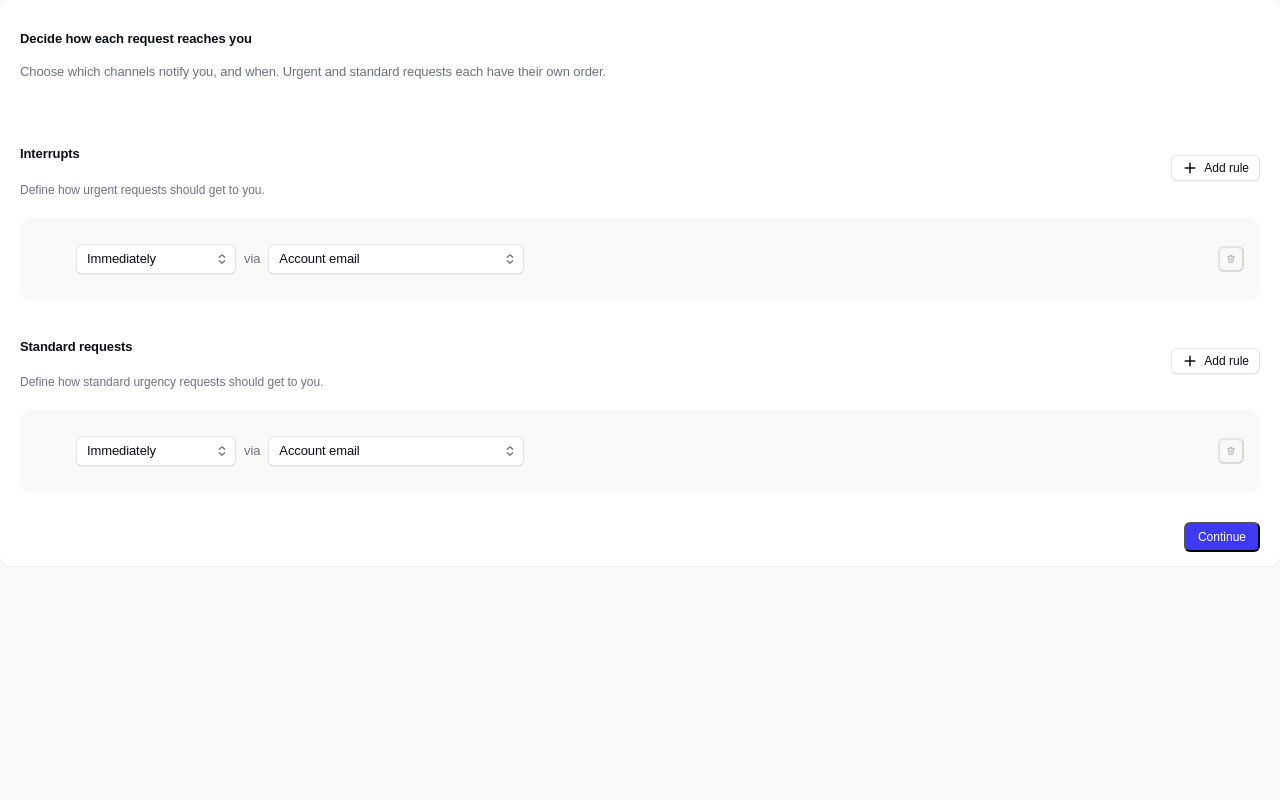
onboarding notification rules › stays on the step when the save fails
Click the 2nd button "Add rule" at (1216, 361), box top-left (1171, 348), bottom-right (1260, 374)
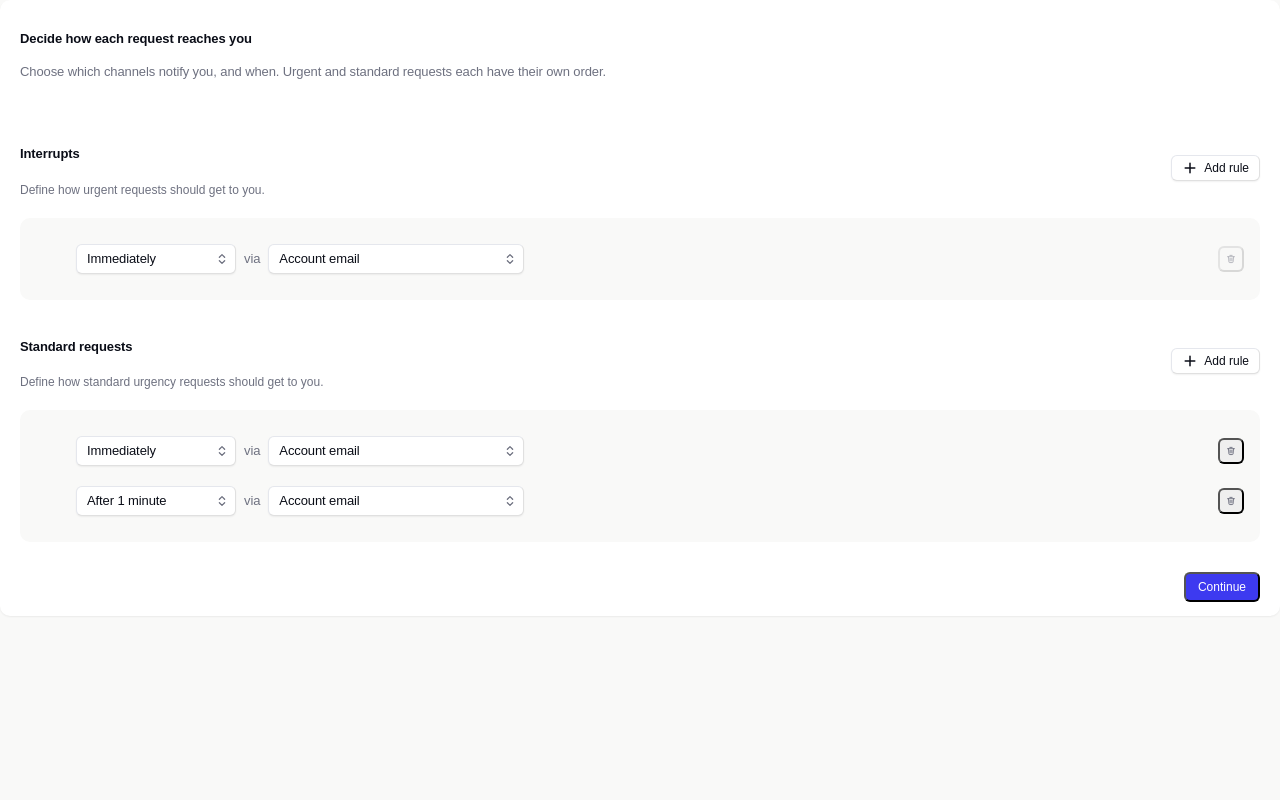
Click the button "Continue" at (1222, 587), box top-left (1184, 572), bottom-right (1260, 602)
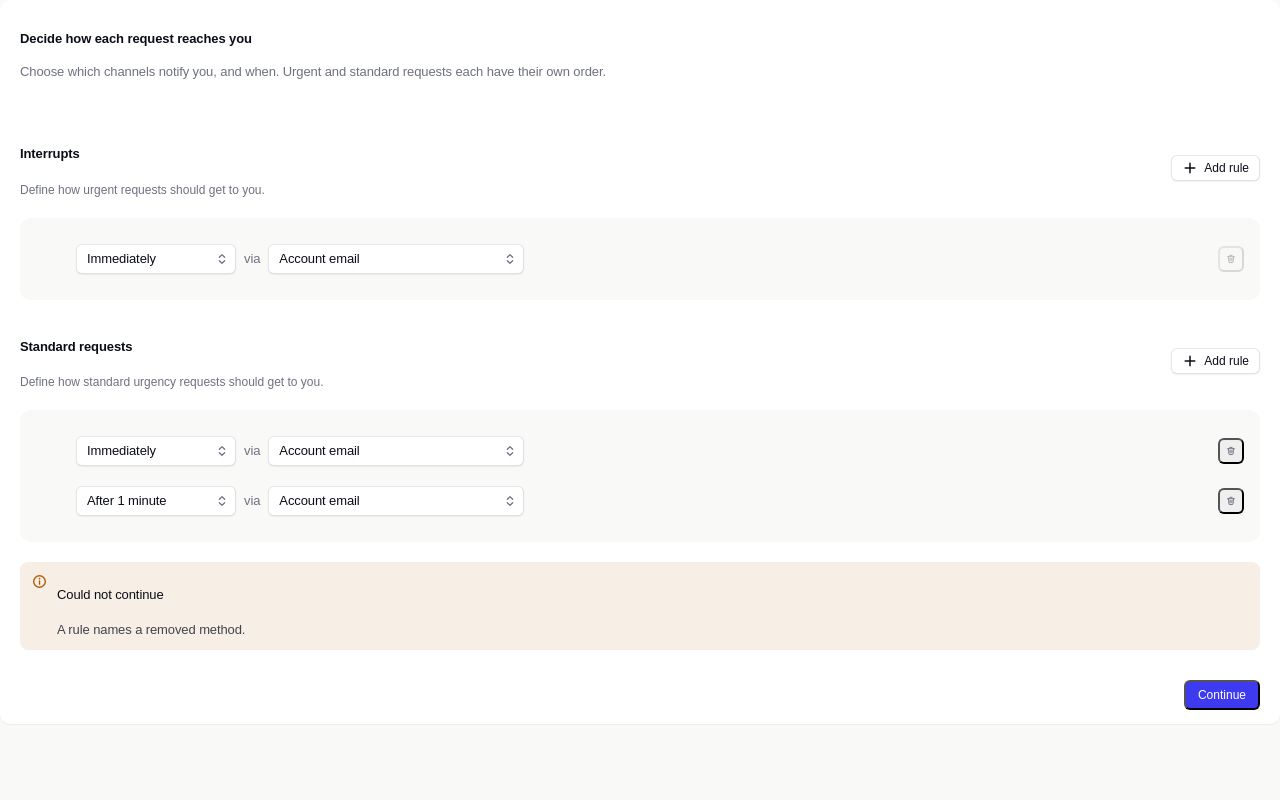
Expected: the text "A rule names a removed method." is shown, top-left (57, 620), bottom-right (245, 640)
